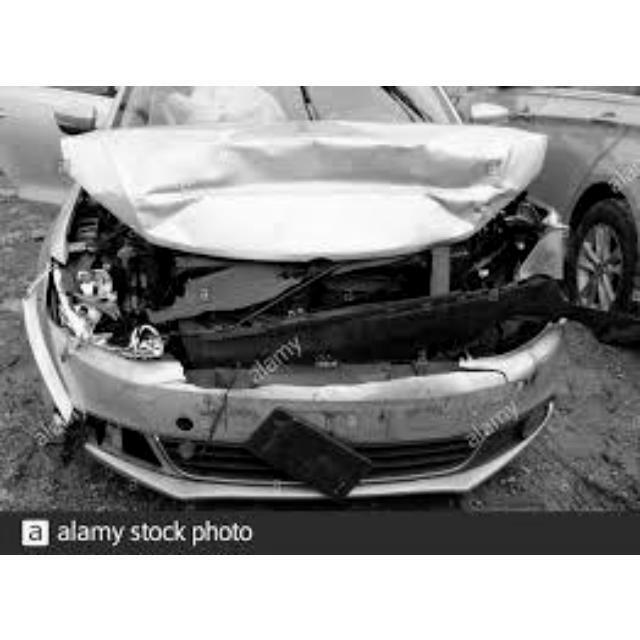bonnet-dent: (69, 98, 547, 268)
front-bumper-dent: (389, 315, 584, 498), (29, 349, 251, 507)
